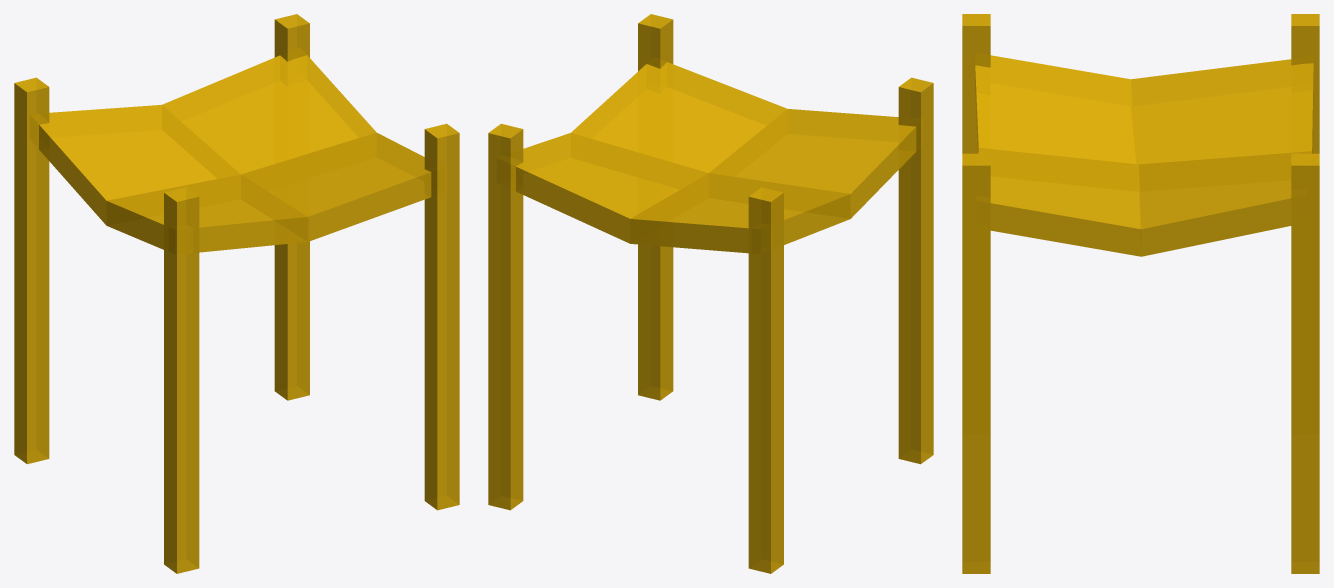
Rendered from SM_Bld_Awning_02_Collision.fbx.
The picture shows the model from 3 angles, left to right: view 1: azimuth 30°, elevation 25°; view 2: azimuth 150°, elevation 25°; view 3: azimuth 270°, elevation 25°; orthographic projection. The views are drawn at different scales.
Visible parts, largest first — view 1: SM_Bld_Awning_02_Collision; view 2: SM_Bld_Awning_02_Collision; view 3: SM_Bld_Awning_02_Collision.
Part boxes in pixels (left/top/right/bottom): SM_Bld_Awning_02_Collision: left=14, top=14, right=459, bottom=573; SM_Bld_Awning_02_Collision: left=488, top=14, right=933, bottom=573; SM_Bld_Awning_02_Collision: left=962, top=14, right=1319, bottom=573.
Bounding box in the file's own units: 272 × 342 × 271.
